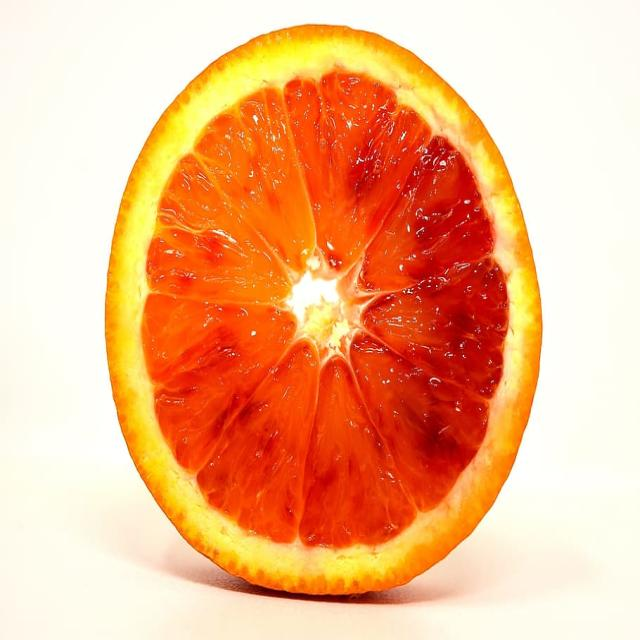orange: (104, 17, 544, 592)
